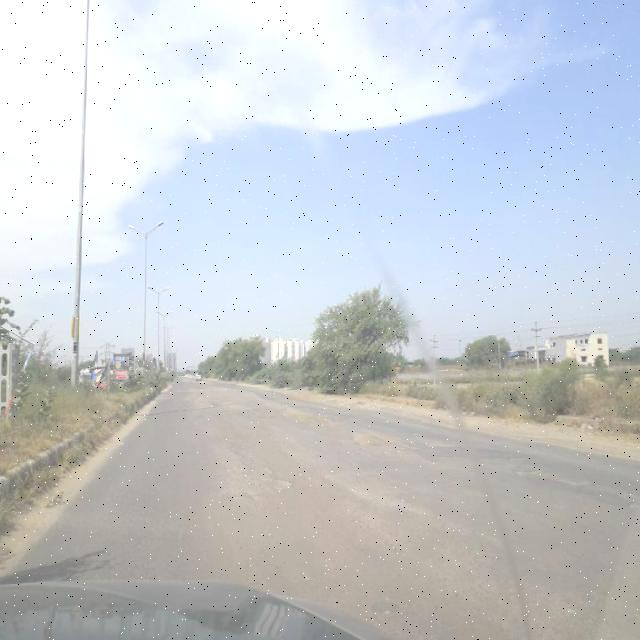D40: (506, 451, 636, 497), (210, 458, 300, 506), (342, 420, 442, 458), (216, 398, 335, 428)
